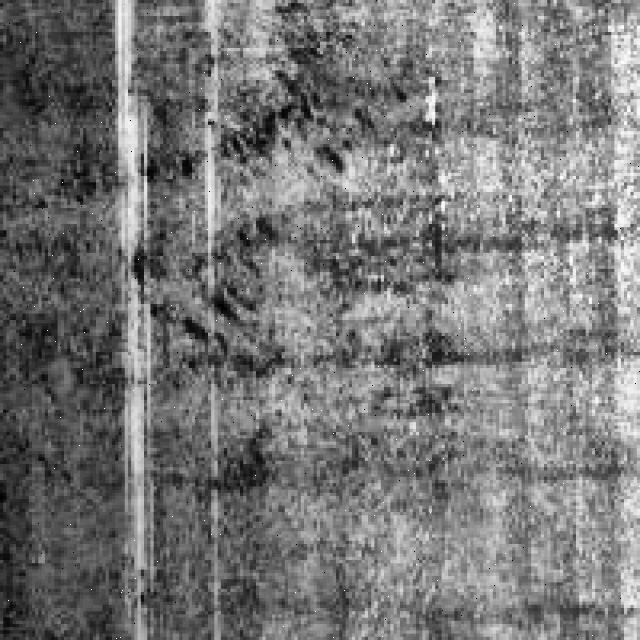Inclusion: (119, 0, 164, 614)
